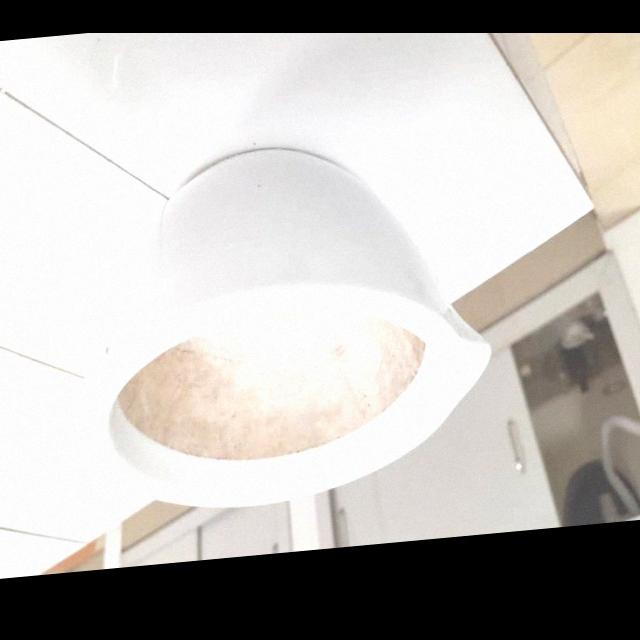Mortar and Pestle: (70, 126, 494, 525)
